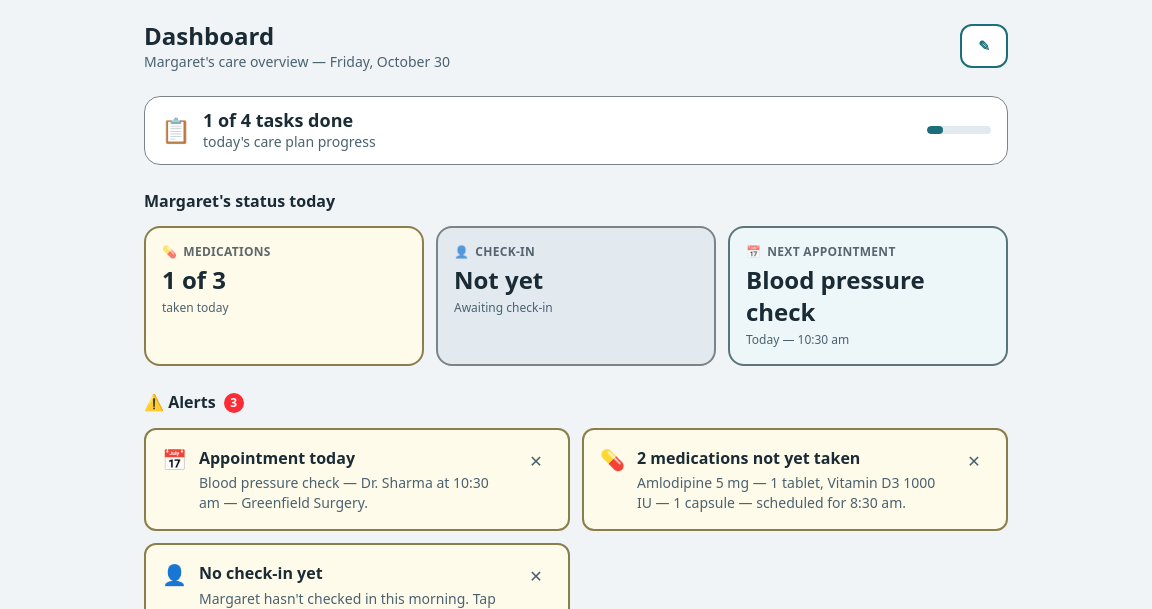
Test: DashboardPage › alerts can be dismissed
Click the button named "dismiss alert" at (536, 462), box 520,446 -> 552,478
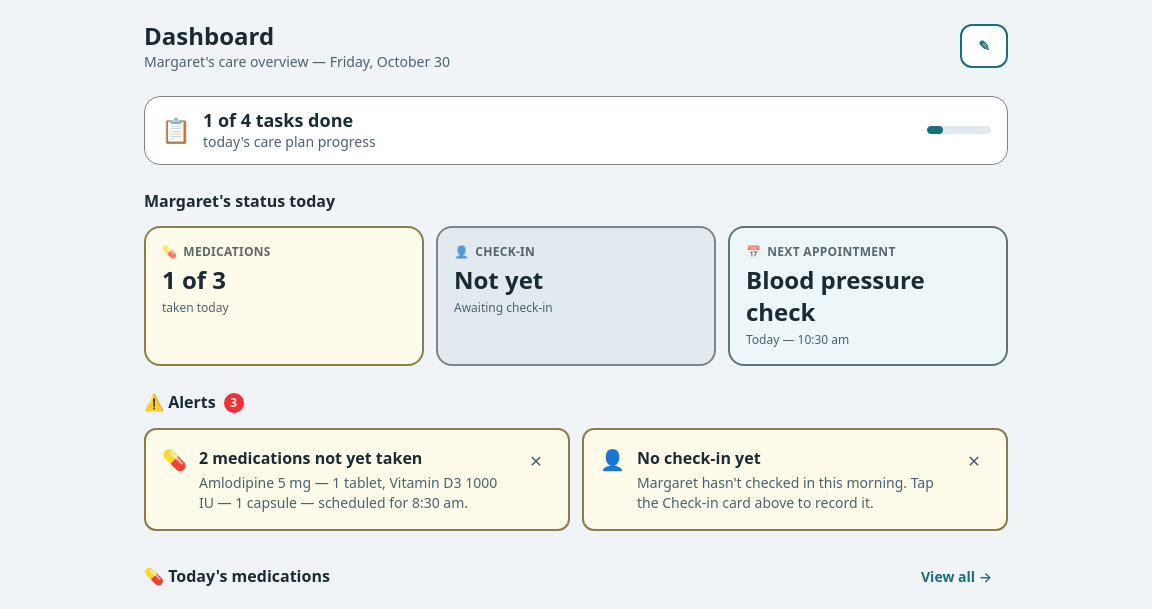
Now the number of buttons named "dismiss alert" is 2, box 520,446 -> 552,478; 958,446 -> 990,478
